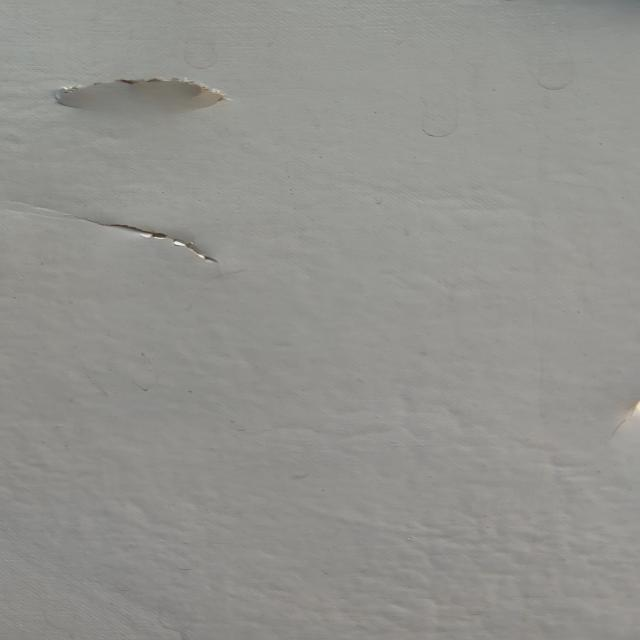Scratches: (66, 213, 252, 279), (43, 71, 240, 119)
